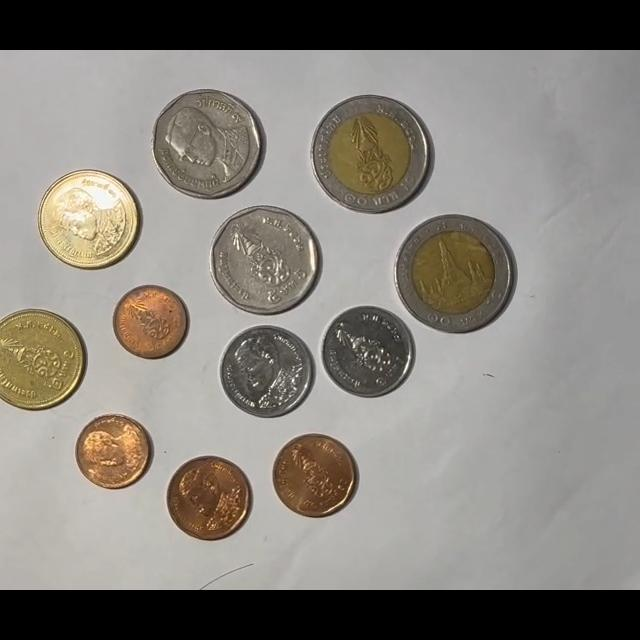1-baht: (320, 305, 415, 399), (218, 325, 313, 419)
10-baht: (309, 94, 430, 214), (394, 214, 515, 333)
2-baht: (37, 170, 139, 270), (0, 308, 84, 410)
25-satang: (75, 414, 152, 490), (113, 284, 188, 359)
5-baht: (152, 89, 264, 201), (209, 206, 320, 316)
50-satang: (166, 456, 252, 542), (272, 434, 357, 518)
